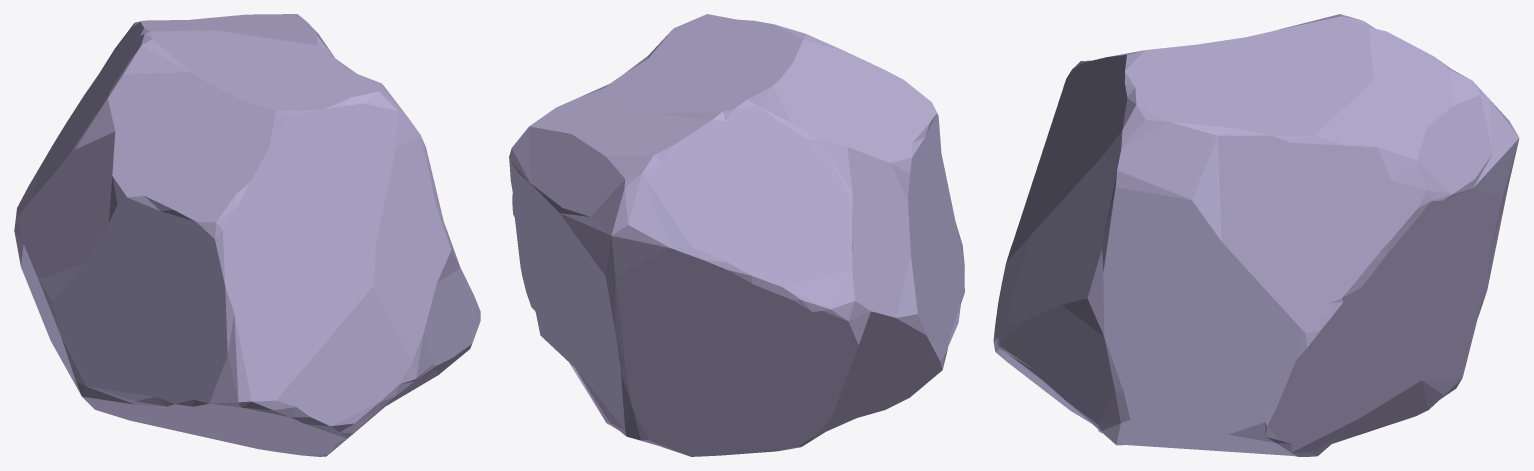
The model's file is LowPolyRock.fbx.
The picture shows the model from 3 angles, left to right: view 1: azimuth 30°, elevation 25°; view 2: azimuth 150°, elevation 25°; view 3: azimuth 270°, elevation 25°; orthographic projection. The views are drawn at different scales.
Visible parts, largest first — view 1: Rock; view 2: Rock; view 3: Rock.
Part boxes in pixels (<box>): Rock: <box>14,14,480,456</box>; Rock: <box>509,14,964,456</box>; Rock: <box>993,14,1519,456</box>.
Size of the model in its own units: 390 by 346 by 416.
